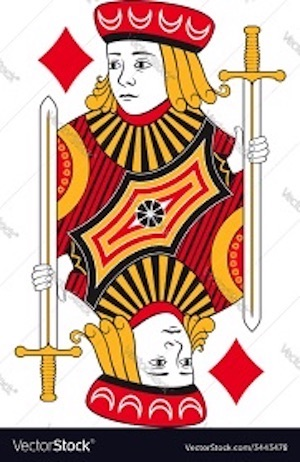JackOfDiamonds: (6, 4, 300, 424)
